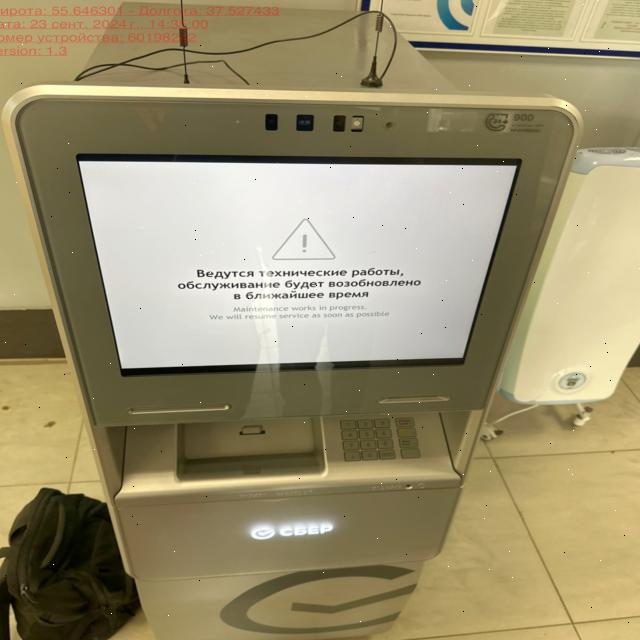bank: (2, 4, 581, 640)
